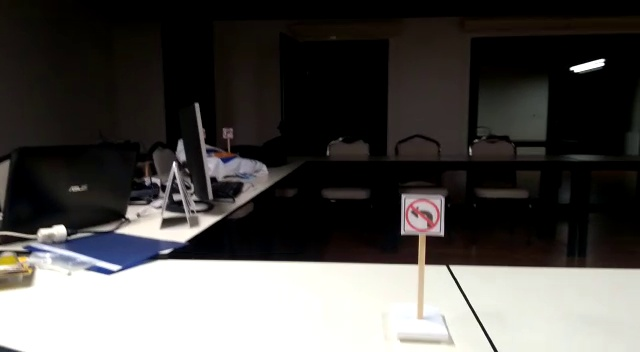sola_donulmez: (403, 192, 439, 231)
